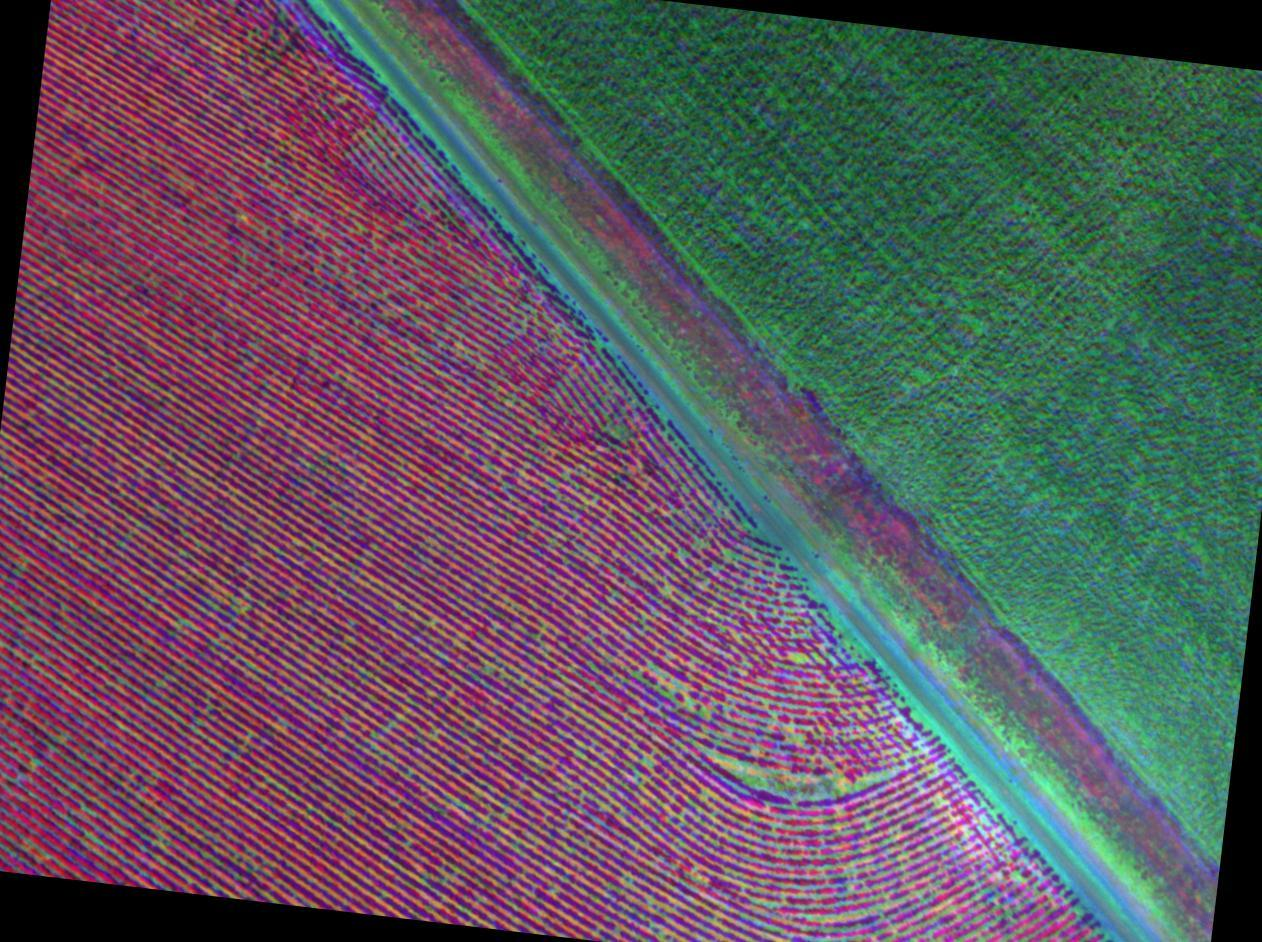dc: (696, 728, 899, 821), (631, 865, 773, 942), (656, 513, 750, 598), (631, 640, 725, 724), (858, 863, 939, 942)
